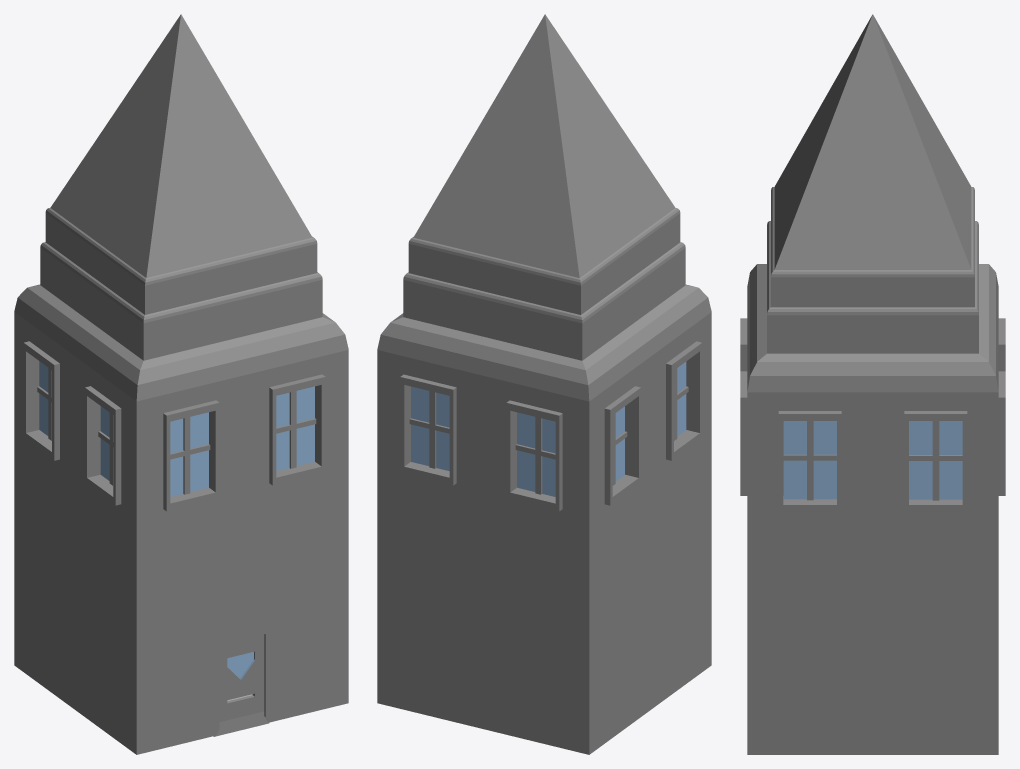
Rendered from Building1.fbx.
The picture shows the model from 3 angles, left to right: view 1: azimuth 30°, elevation 25°; view 2: azimuth 150°, elevation 25°; view 3: azimuth 270°, elevation 25°; orthographic projection. The views are drawn at different scales.
Parts seen in each view (by area): view 1: Bulding 1; view 2: Bulding 1; view 3: Bulding 1.
Boxes of the visible parts, bbox=[...] form: Bulding 1: bbox=[14, 14, 348, 754]; Bulding 1: bbox=[377, 14, 711, 754]; Bulding 1: bbox=[740, 14, 1005, 754].
Bounding box in the file's own units: 592 × 1700 × 592.
